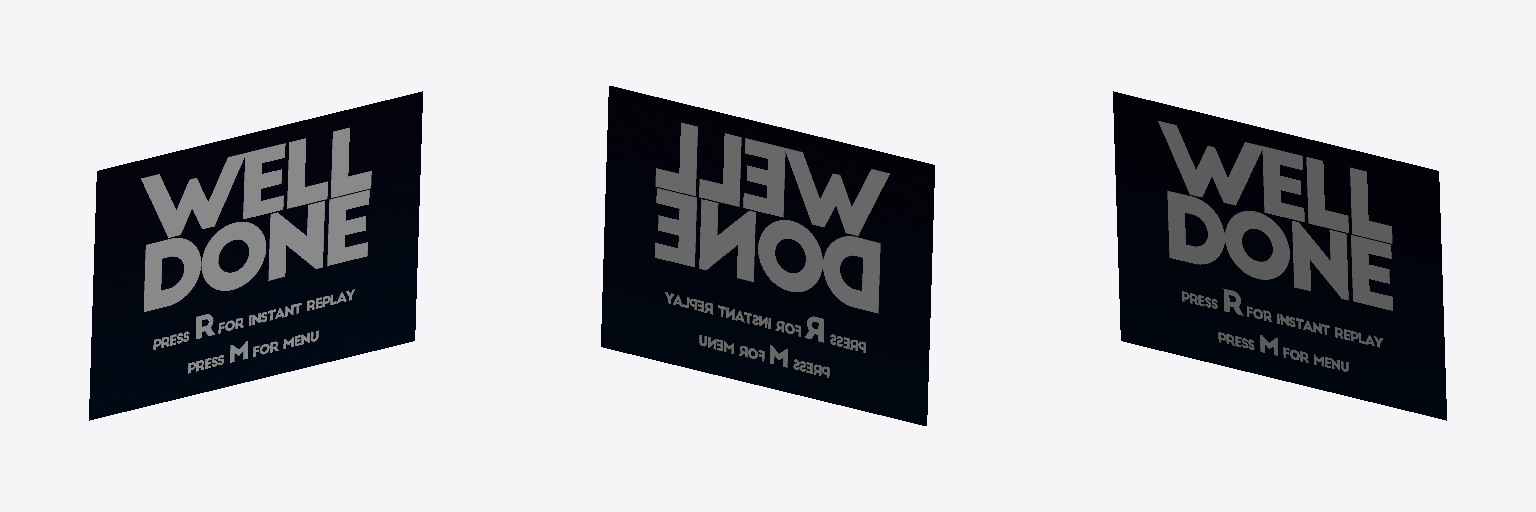
3 renders of one model, left to right at view 1: azimuth 30°, elevation 25°; view 2: azimuth 150°, elevation 25°; view 3: azimuth 330°, elevation 25°, orthographic.
Visible parts, largest first — view 1: Plane; view 2: Plane; view 3: Plane.
Boxes of the visible parts, x1,y1,x2,y2 form: Plane: [89, 91, 422, 420]; Plane: [601, 86, 934, 425]; Plane: [1113, 91, 1446, 420].
Bounding box in the file's own units: 80 × 59.9 × 3.43.
1 materials, 1 textured.